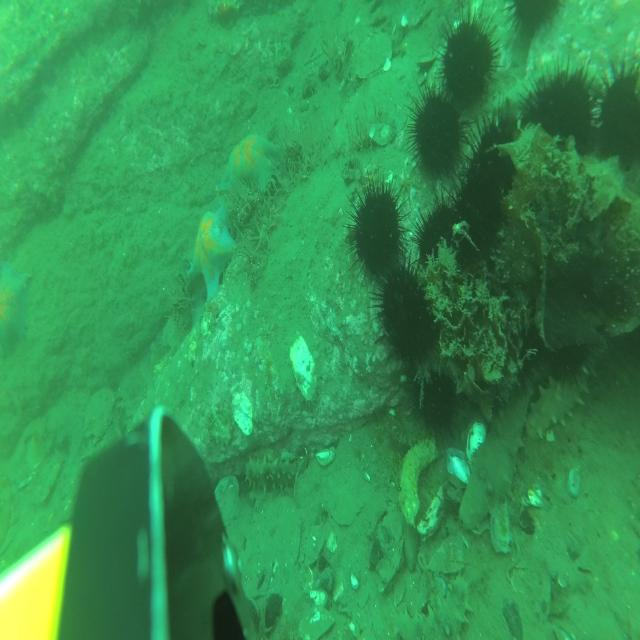echinus: (520, 56, 598, 170), (370, 256, 444, 376), (340, 172, 412, 288), (434, 0, 502, 118), (406, 78, 473, 188), (466, 104, 526, 216), (446, 168, 502, 274), (595, 56, 640, 174), (412, 358, 467, 452), (414, 195, 464, 289), (548, 308, 596, 388), (500, 310, 540, 388), (506, 0, 566, 47)
holothurian: (460, 381, 532, 534), (526, 340, 610, 440), (494, 56, 608, 109), (393, 567, 475, 640), (245, 454, 300, 497)
scallop: (356, 30, 394, 79), (86, 386, 116, 443), (213, 470, 240, 527)
starfish: (190, 208, 236, 306), (216, 132, 281, 192), (0, 255, 33, 360)
